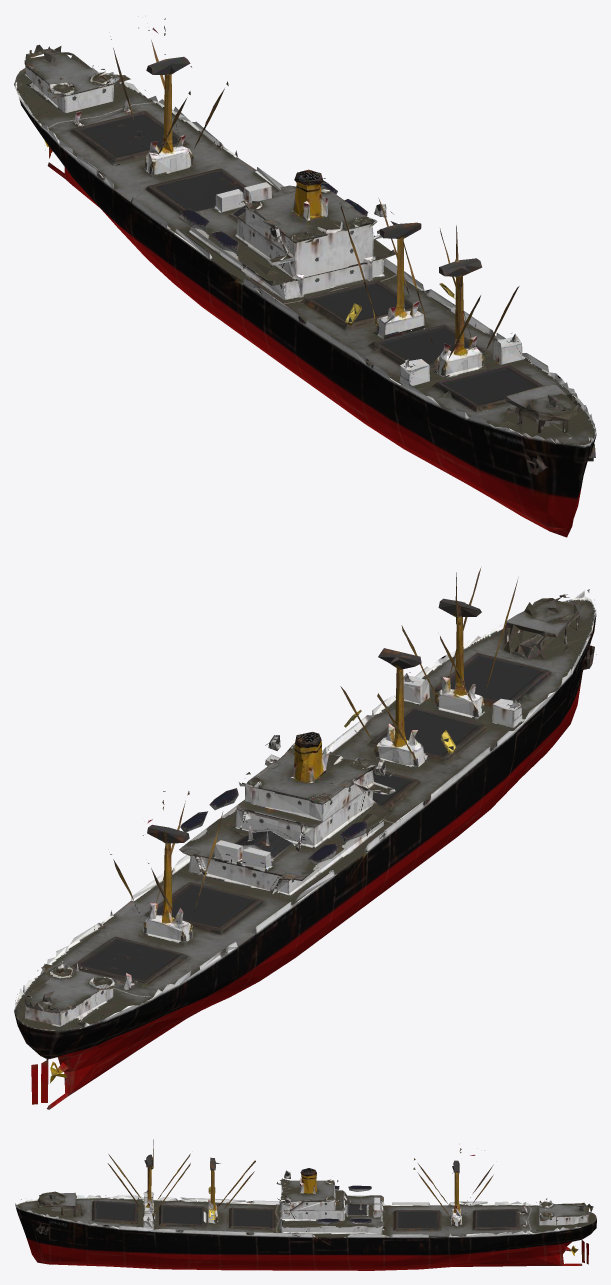
Rendered from transport.glb.
3 renders of one model, top to bottom at view 1: azimuth 30°, elevation 25°; view 2: azimuth 150°, elevation 25°; view 3: azimuth 270°, elevation 25°, orthographic. The views are drawn at different scales.
Visible parts, largest first — view 1: transport; view 2: transport; view 3: transport.
Part boxes in pixels (<box>): transport: <box>14,18,596,537</box>; transport: <box>14,567,596,1109</box>; transport: <box>15,1139,596,1270</box>.
Size of the model in its own units: 20.23 by 32.72 by 135.
1 material, 1 textured.
